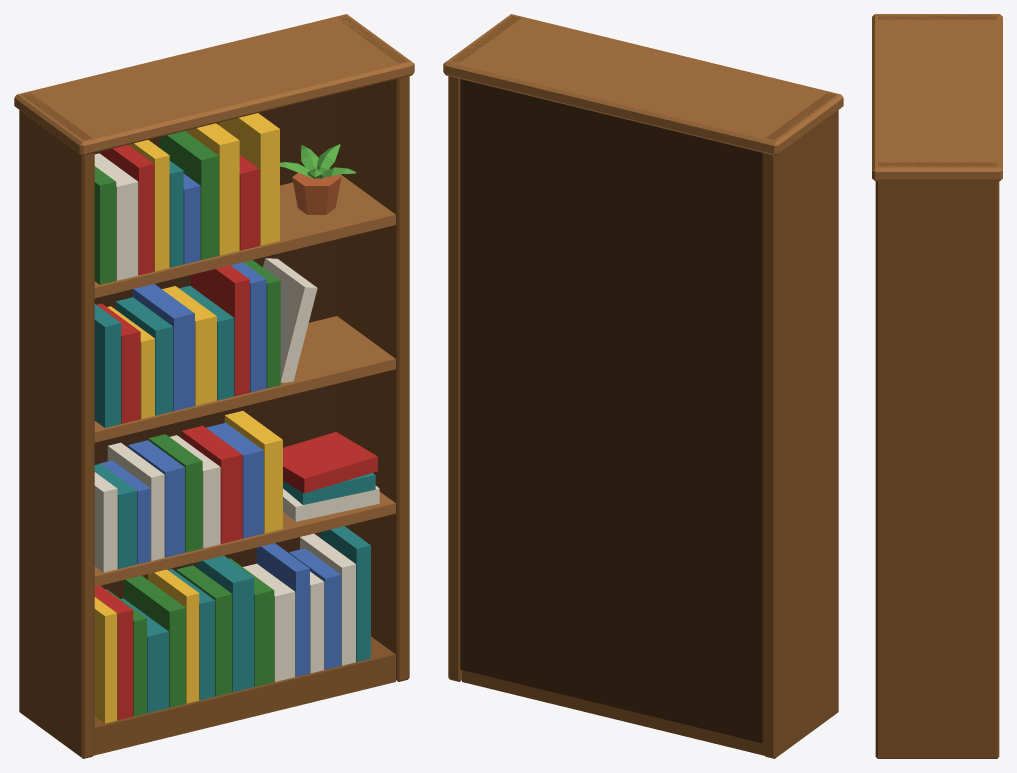
Rendered from Prop_Bookshelf.fbx.
3 views of the same model, side by side, from view 1: azimuth 30°, elevation 25°; view 2: azimuth 150°, elevation 25°; view 3: azimuth 270°, elevation 25° (orthographic). The views are drawn at different scales.
Parts seen in each view (by area): view 1: Prop_Bookshelf; view 2: Prop_Bookshelf; view 3: Prop_Bookshelf.
Part boxes in pixels (box(x1,y1,x2,y2)): Prop_Bookshelf: box(14, 14, 414, 758); Prop_Bookshelf: box(443, 14, 843, 758); Prop_Bookshelf: box(872, 14, 1002, 758).
Bounding box in the file's own units: 1.02 × 1.8 × 0.36.
